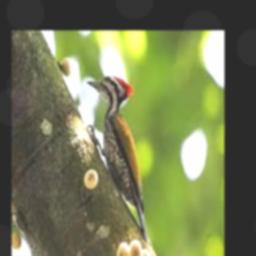Woodpecker: (86, 76, 150, 243)
